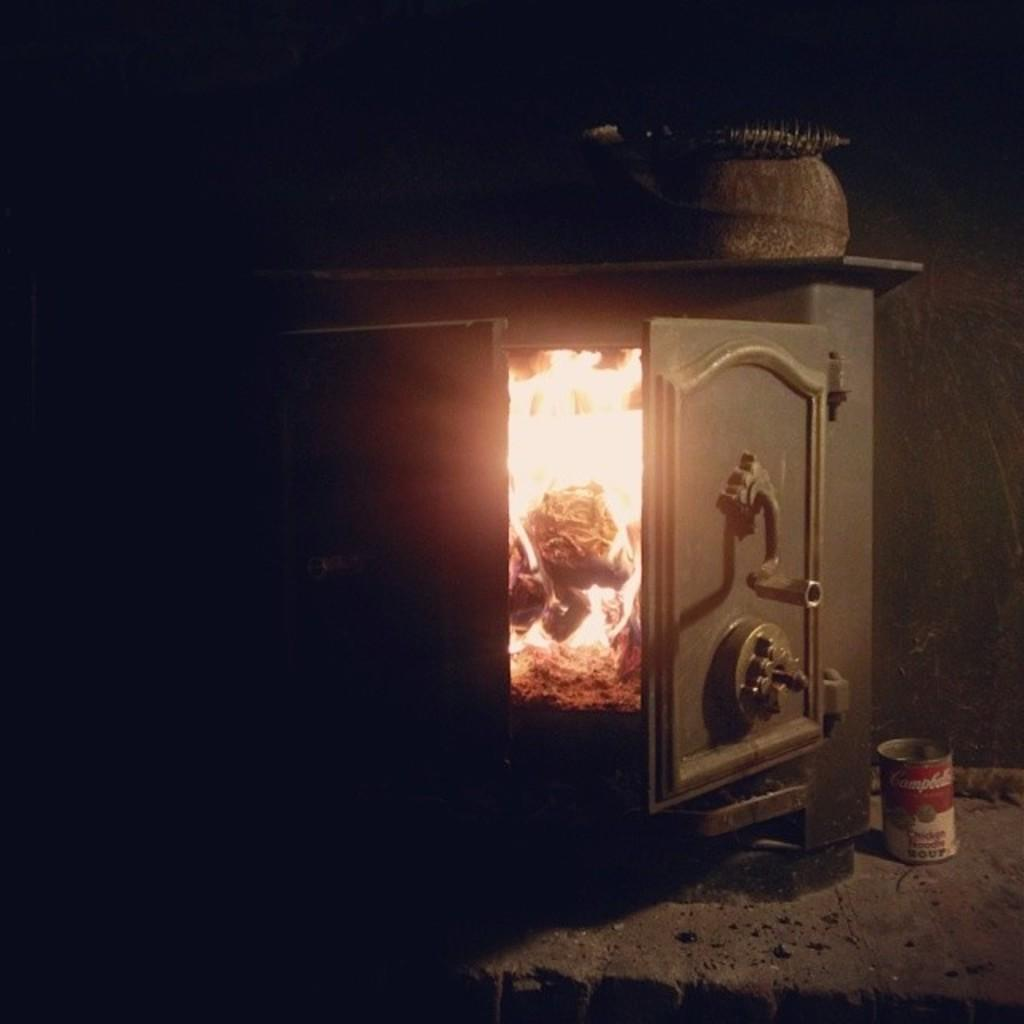fire: (514, 352, 636, 696)
